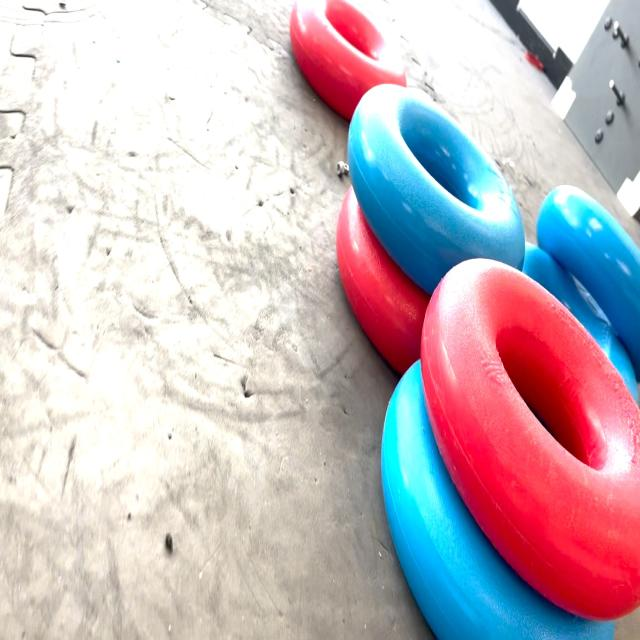Blue-Ring: (381, 362, 614, 640), (348, 84, 525, 293), (536, 184, 640, 379), (522, 242, 638, 402)
Red-Ring: (421, 260, 640, 620), (336, 187, 430, 373), (290, 0, 406, 120)
